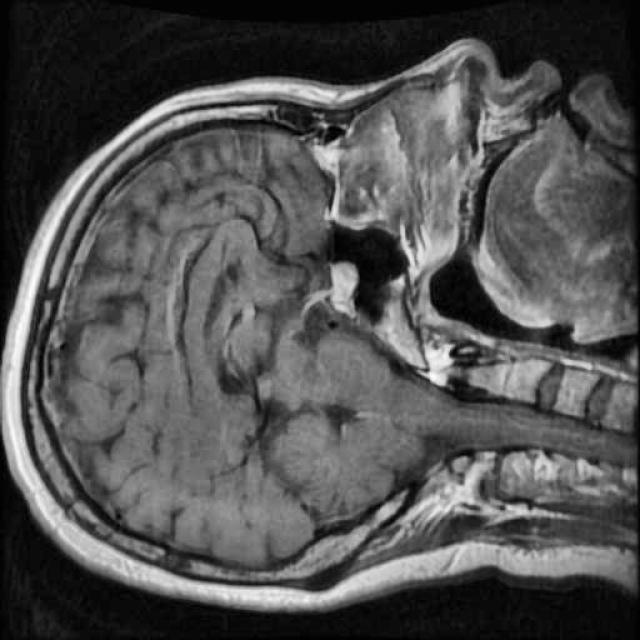Tumor: (315, 245, 380, 322)
